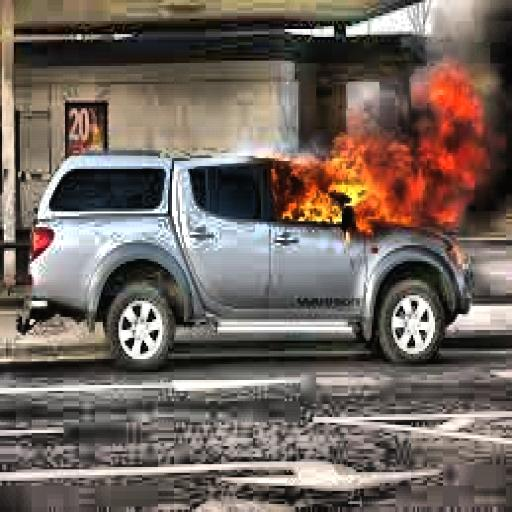fire: (267, 68, 494, 238)
